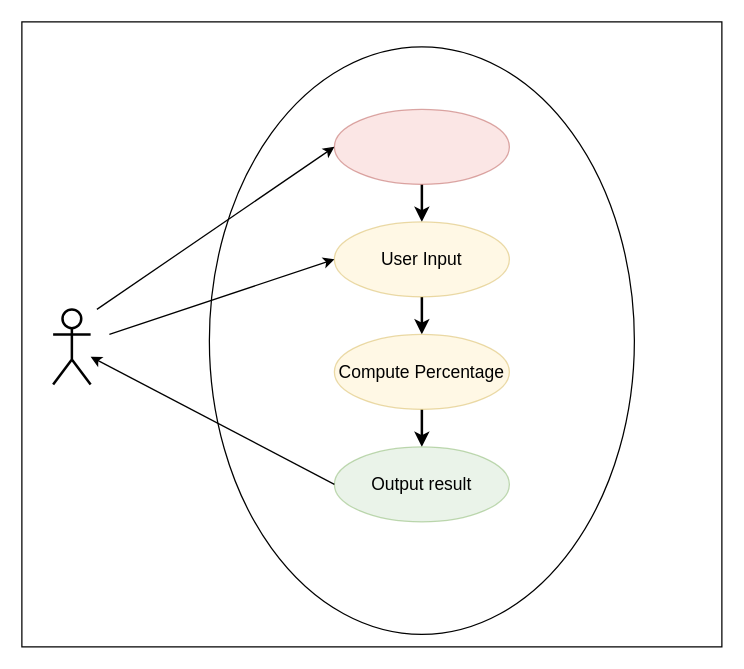
The diagram is 744 pixels wide and 669 high, and some of its shapes have lost their labels. The box of each missing label's shape, as (x1, y1, x2, y2) in pixels:
Select Percentage operation: (333, 108, 509, 184)
User: (51, 308, 91, 385)
